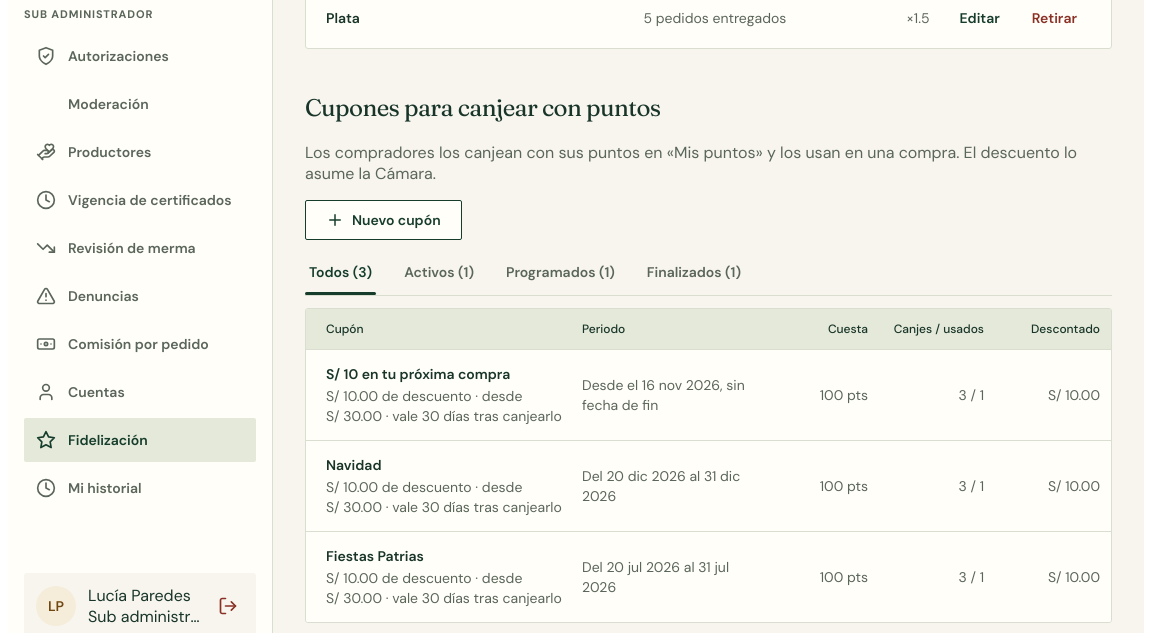
it: Niveles y cupones del sub administrador (CCPIP-88, CCPIP-89) › separa los cupones por estado, como las campañas, con su periodo
(page scrolled)
Check: the text "Desde el 16 nov 2026, sin fecha de fin" is shown, box [582,374,752,414]
Click the tab "Programados (1)": (560, 273) [502,252,619,294]
(page scrolled)
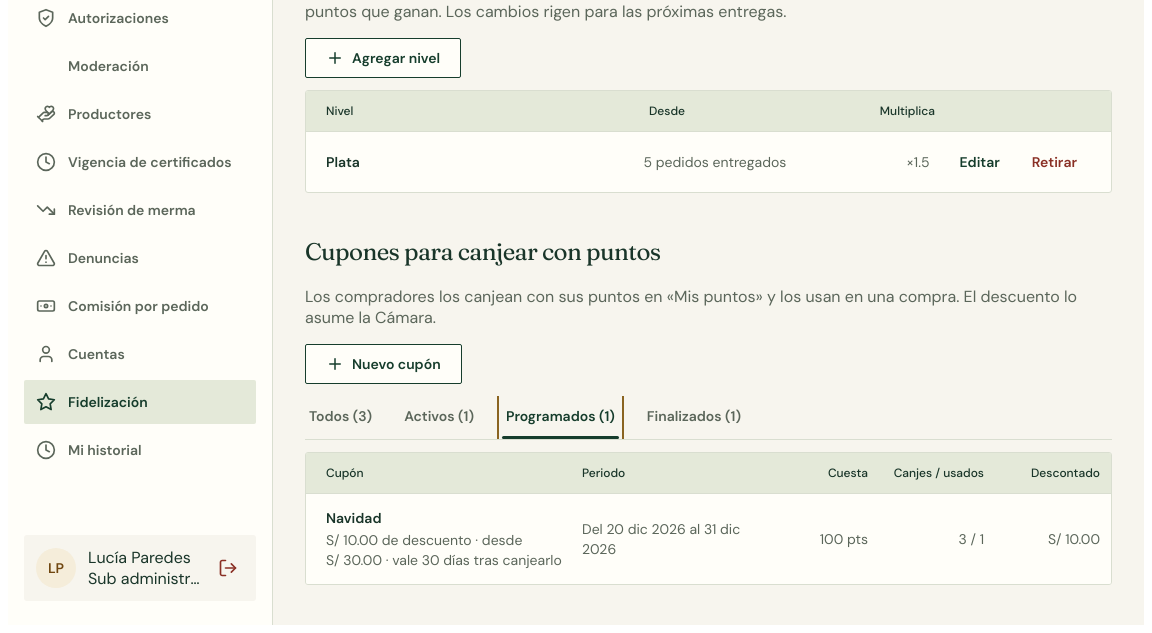
Check: the text "Navidad" is shown, box [326,508,382,526]
Check: the text "Fiestas Patrias" is gone
Note: Uno que termino por su fecha se reabre editando el periodo, no con un boton
Click the tab "Finalizados (1)": (694, 417) [643,396,745,438]
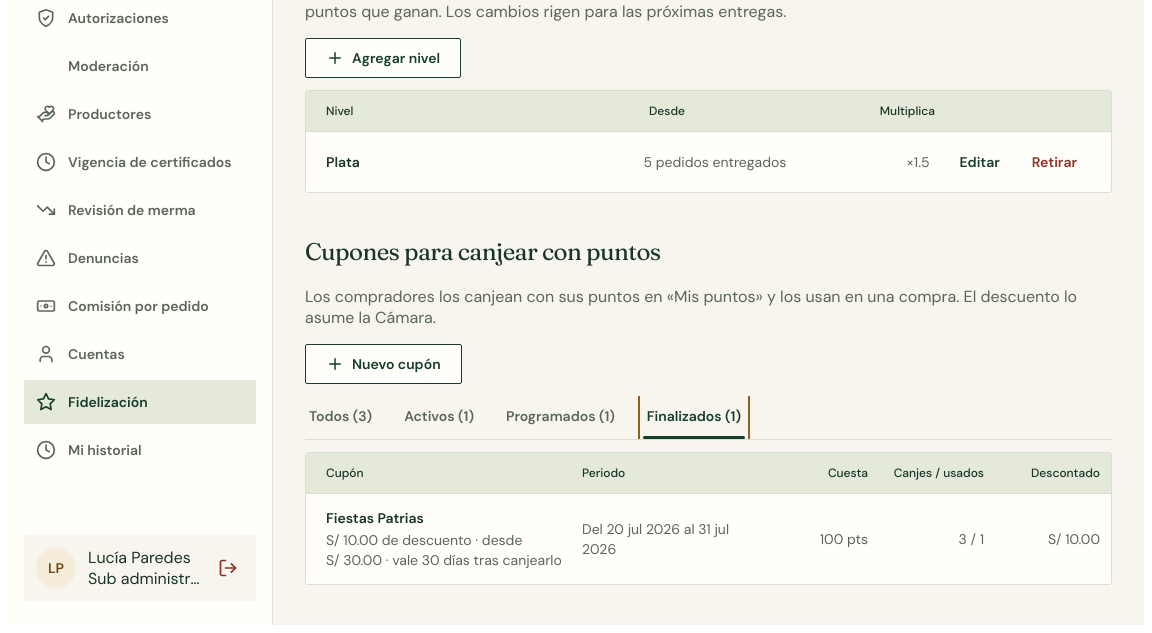
Check: the text "Fiestas Patrias" is shown, box [326,508,424,526]
